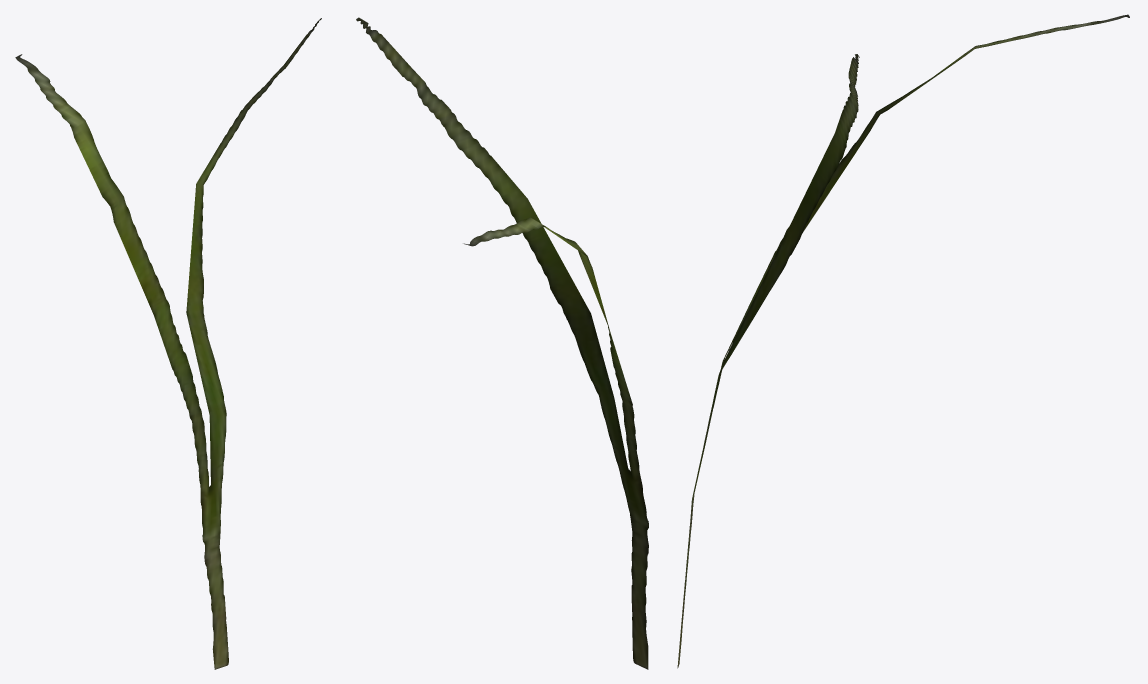
The model's file is grass-2-far.glb.
3 renders of one model, left to right at view 1: azimuth 30°, elevation 25°; view 2: azimuth 150°, elevation 25°; view 3: azimuth 270°, elevation 25°, orthographic. The views are drawn at different scales.
Visible parts, largest first — view 1: grass_medium_01_tiny_b_LOD0; view 2: grass_medium_01_tiny_b_LOD0; view 3: grass_medium_01_tiny_b_LOD0.
Part boxes in pixels (left/top/right/bottom): grass_medium_01_tiny_b_LOD0: left=15, top=18, right=321, bottom=669; grass_medium_01_tiny_b_LOD0: left=356, top=17, right=648, bottom=669; grass_medium_01_tiny_b_LOD0: left=677, top=14, right=1129, bottom=668.
Size of the model in its own units: 0.0236 by 0.0602 by 0.0344.
1 material, 1 textured.
